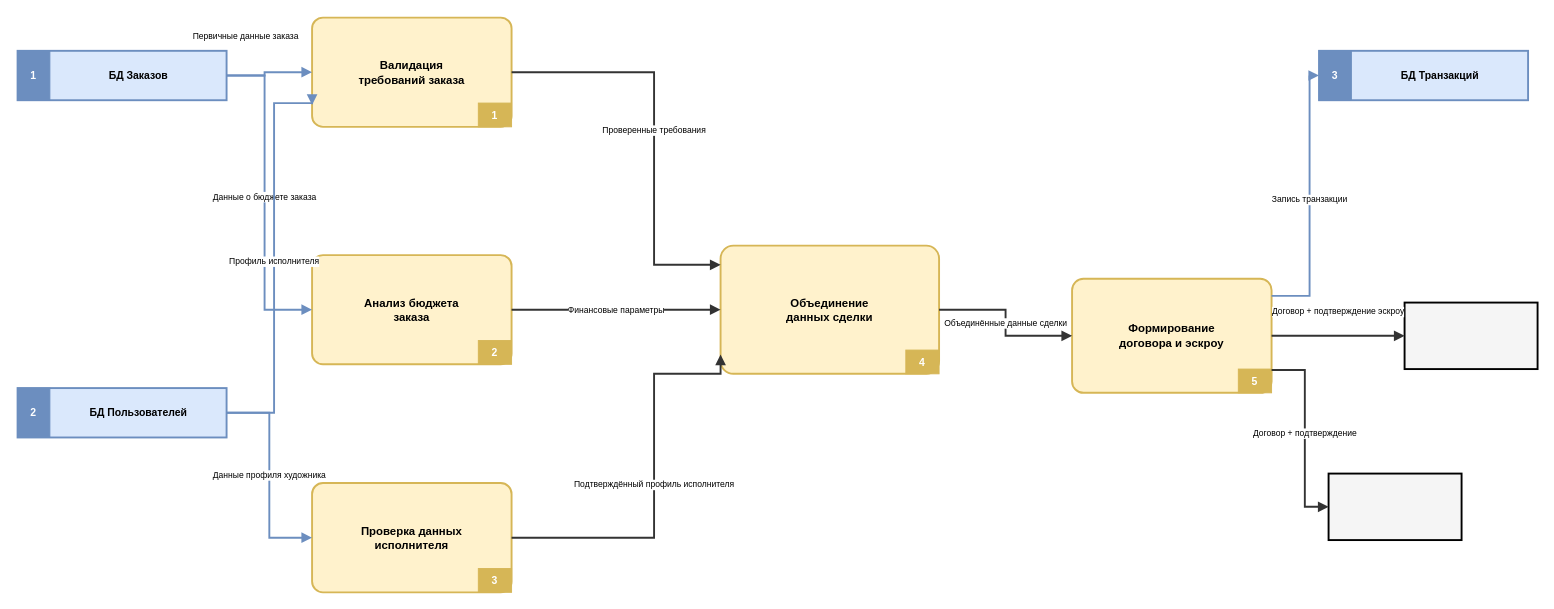
This 1554x609 diagram has some shape labels left out. Each missing label, with the centre of its shape:
"Заказчик" goes at (1394,506).
"Художник" goes at (1470,335).
